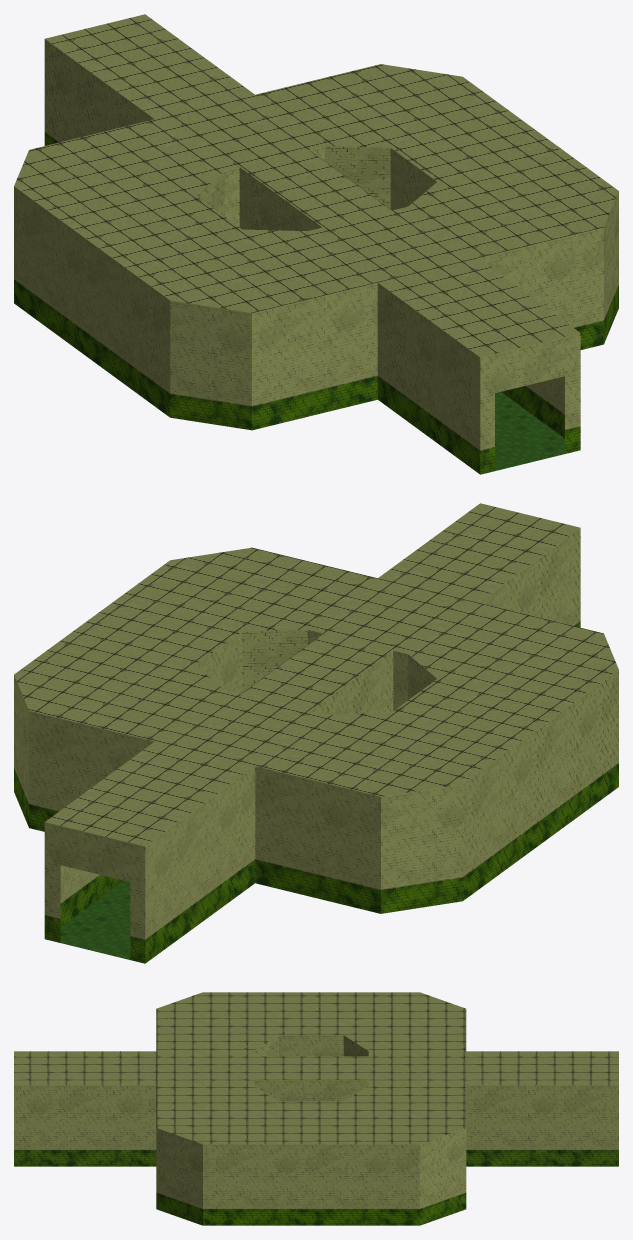
File: Wall_Roof_Floor_FlippedNormal.fbx
The picture shows the model from 3 angles, top to bottom: view 1: azimuth 30°, elevation 25°; view 2: azimuth 150°, elevation 25°; view 3: azimuth 270°, elevation 25°; orthographic projection. The views are drawn at different scales.
Parts seen in each view (by area): view 1: Roof, Wall, Floor; view 2: Roof, Wall, Floor; view 3: Wall, Roof.
Boxes of the visible parts, bbox=[...] form: Roof: bbox=[14, 14, 618, 357]; Wall: bbox=[14, 39, 618, 474]; Floor: bbox=[495, 392, 564, 470]; Roof: bbox=[14, 503, 618, 846]; Wall: bbox=[14, 528, 618, 963]; Floor: bbox=[60, 881, 130, 959]; Wall: bbox=[14, 1035, 618, 1225]; Roof: bbox=[14, 992, 618, 1144].
Size of the model in its own units: 41.56 by 10.37 by 69.85.
3 materials, 3 textured.
